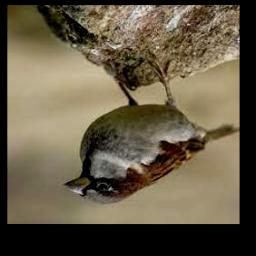Sparrow: (63, 59, 240, 204)
